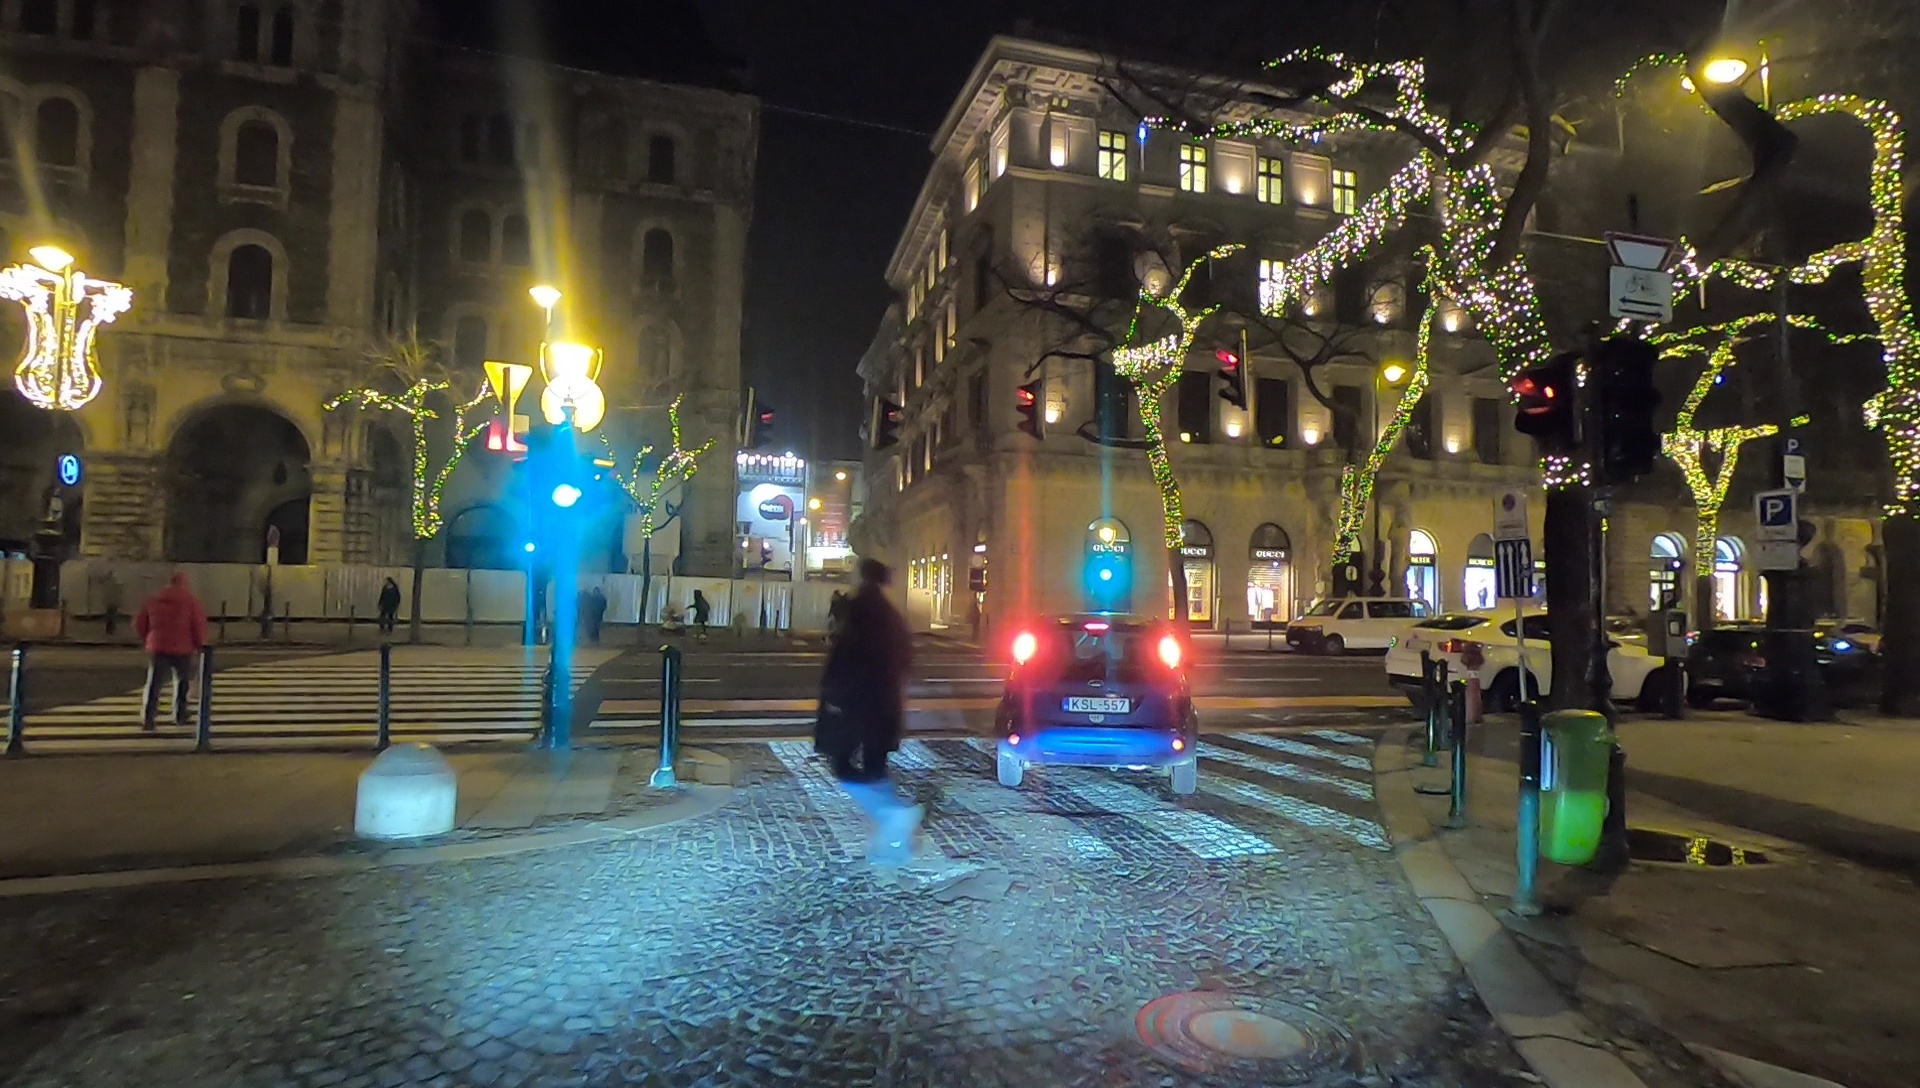person: (812, 560, 932, 873), (139, 571, 201, 726), (582, 585, 606, 645), (686, 587, 709, 640), (378, 578, 399, 633)
